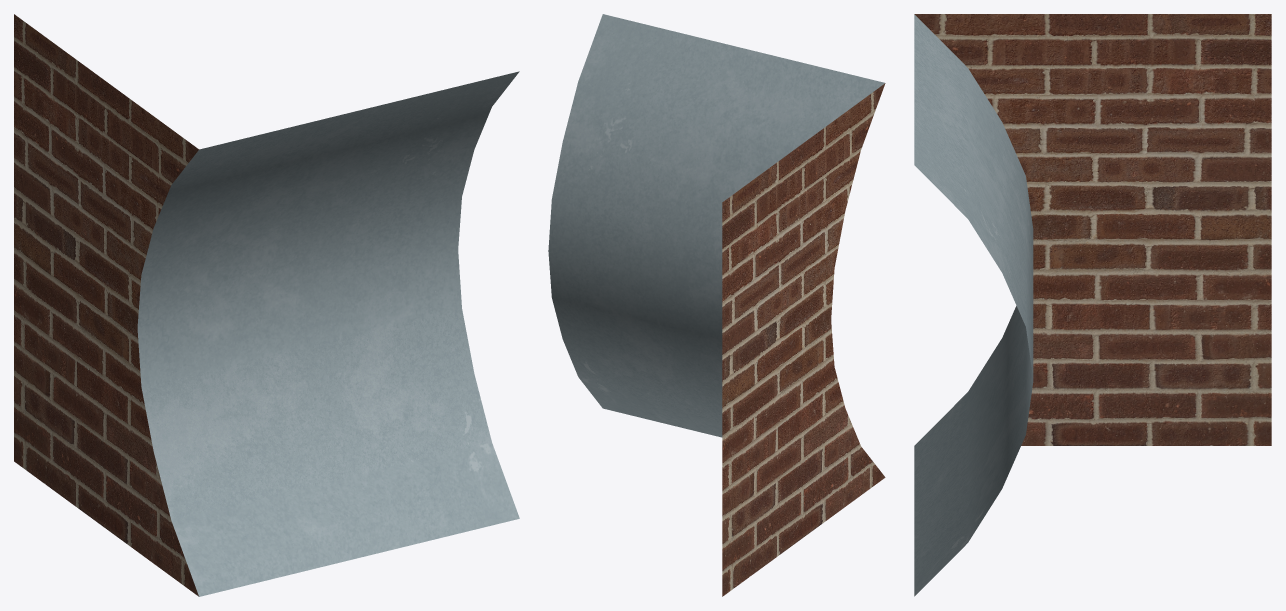
Rendered from BasicWall_BrickEnd.fbx.
3 views of the same model, side by side, from view 1: azimuth 30°, elevation 25°; view 2: azimuth 150°, elevation 25°; view 3: azimuth 270°, elevation 25° (orthographic). The views are drawn at different scales.
Parts seen in each view (by area): view 1: pPlane1; view 2: pPlane1; view 3: pPlane1.
Part boxes in pixels (x1,y1,x2,y2): pPlane1: [14, 14, 519, 596]; pPlane1: [548, 14, 885, 596]; pPlane1: [914, 14, 1271, 596].
Size of the model in its own units: 3 by 4 by 3.
